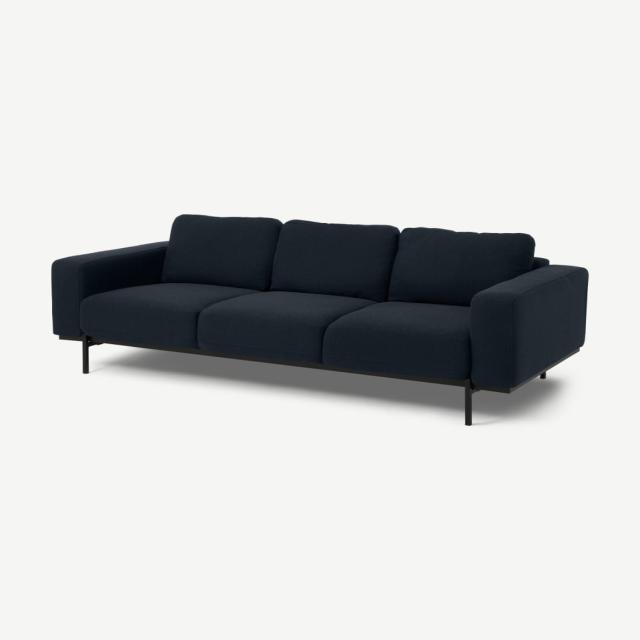back_cushion: (162, 215, 534, 305)
left_arm: (470, 261, 587, 392)
legs: (464, 379, 473, 425), (82, 338, 91, 373), (541, 371, 547, 379)
right_arm: (51, 242, 168, 339)
seat_cushion: (79, 283, 470, 380)
stallion-sofa: (0, 0, 639, 639)
